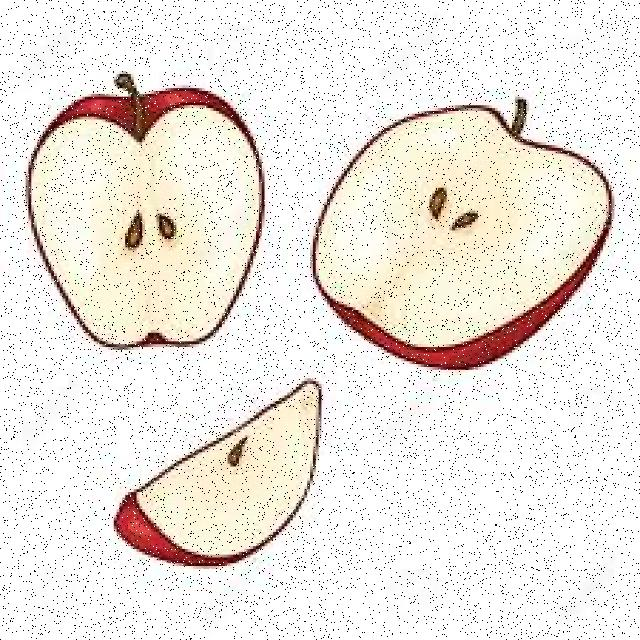Apple: (306, 96, 614, 370), (24, 90, 264, 343), (110, 379, 321, 569)
